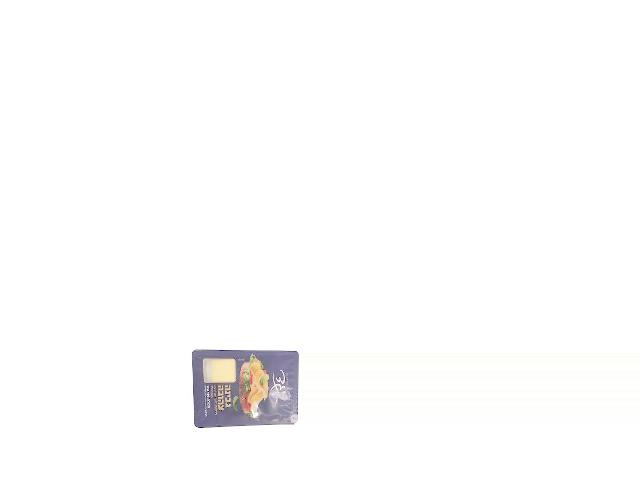cheese: (191, 349, 299, 430)
